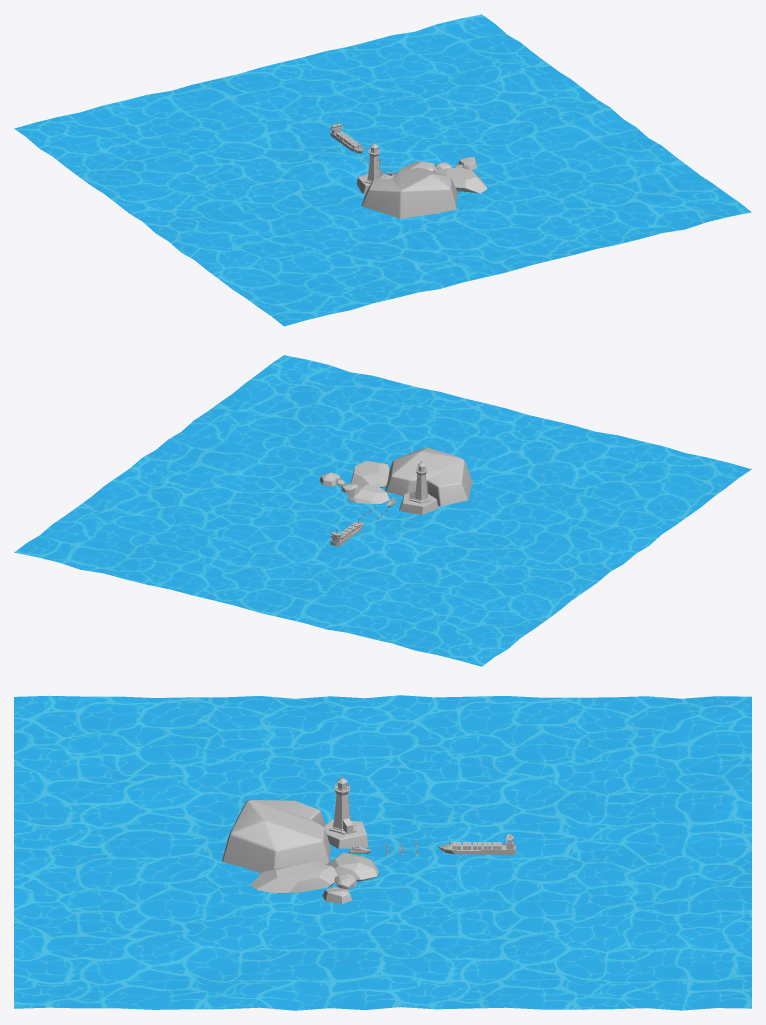
Rendered from changjing6_5.fbx.
3 views of the same model, one above another, from view 1: azimuth 30°, elevation 25°; view 2: azimuth 150°, elevation 25°; view 3: azimuth 270°, elevation 25° (orthographic). The views are drawn at different scales.
Parts seen in each view (by area): view 1: shuimian; view 2: shuimian; view 3: shuimian, DaHuoLun3.
Part boxes in pixels (x1,y1,x2,y2): shuimian: (14,14,751,326); shuimian: (14,355,751,666); shuimian: (14,695,751,1010); DaHuoLun3: (439,834,515,855).
Bounding box in the file's own units: 50226 × 5803 × 50226.
